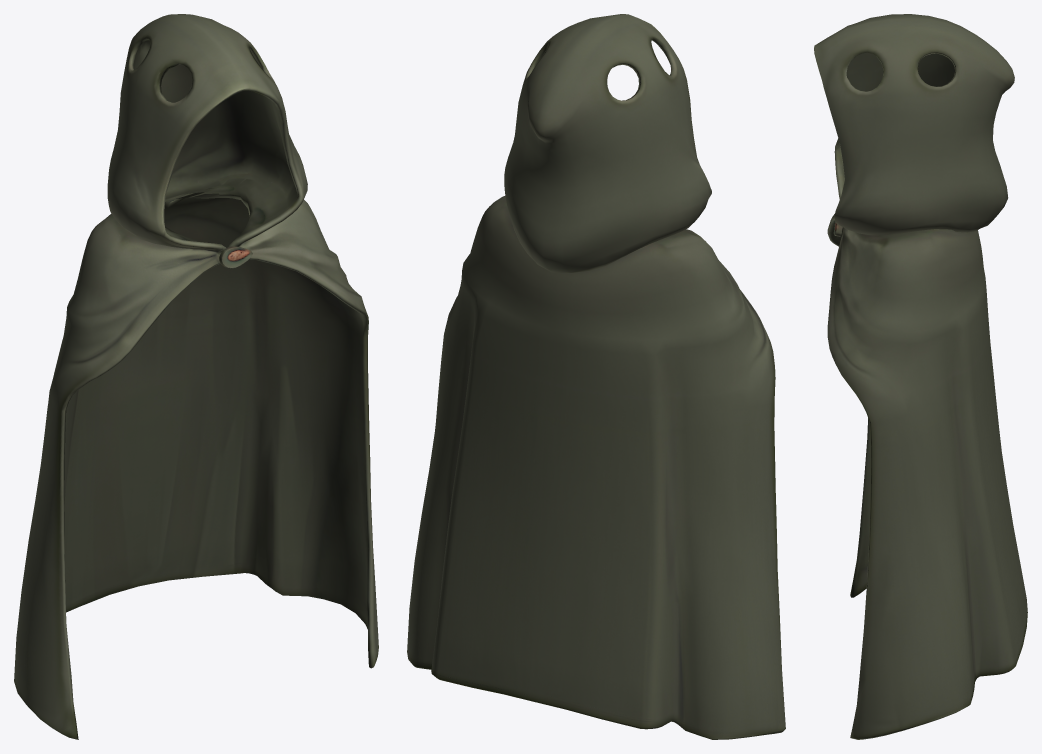
The model's file is wolf_scout_cloak_textured.fbx.
3 views of the same model, side by side, from view 1: azimuth 30°, elevation 25°; view 2: azimuth 150°, elevation 25°; view 3: azimuth 270°, elevation 25° (orthographic). The views are drawn at different scales.
Parts seen in each view (by area): view 1: tripo_372d0f9b_f9c7_4465_b9d2_d2773a9e0ce6; view 2: tripo_372d0f9b_f9c7_4465_b9d2_d2773a9e0ce6; view 3: tripo_372d0f9b_f9c7_4465_b9d2_d2773a9e0ce6.
Part boxes in pixels (x1=…): tripo_372d0f9b_f9c7_4465_b9d2_d2773a9e0ce6: x1=14, y1=14, x2=378, y2=739; tripo_372d0f9b_f9c7_4465_b9d2_d2773a9e0ce6: x1=407, y1=14, x2=785, y2=739; tripo_372d0f9b_f9c7_4465_b9d2_d2773a9e0ce6: x1=814, y1=14, x2=1027, y2=739.
Size of the model in its own units: 0.5464 by 0.9995 by 0.2983.
1 material, 1 textured.
